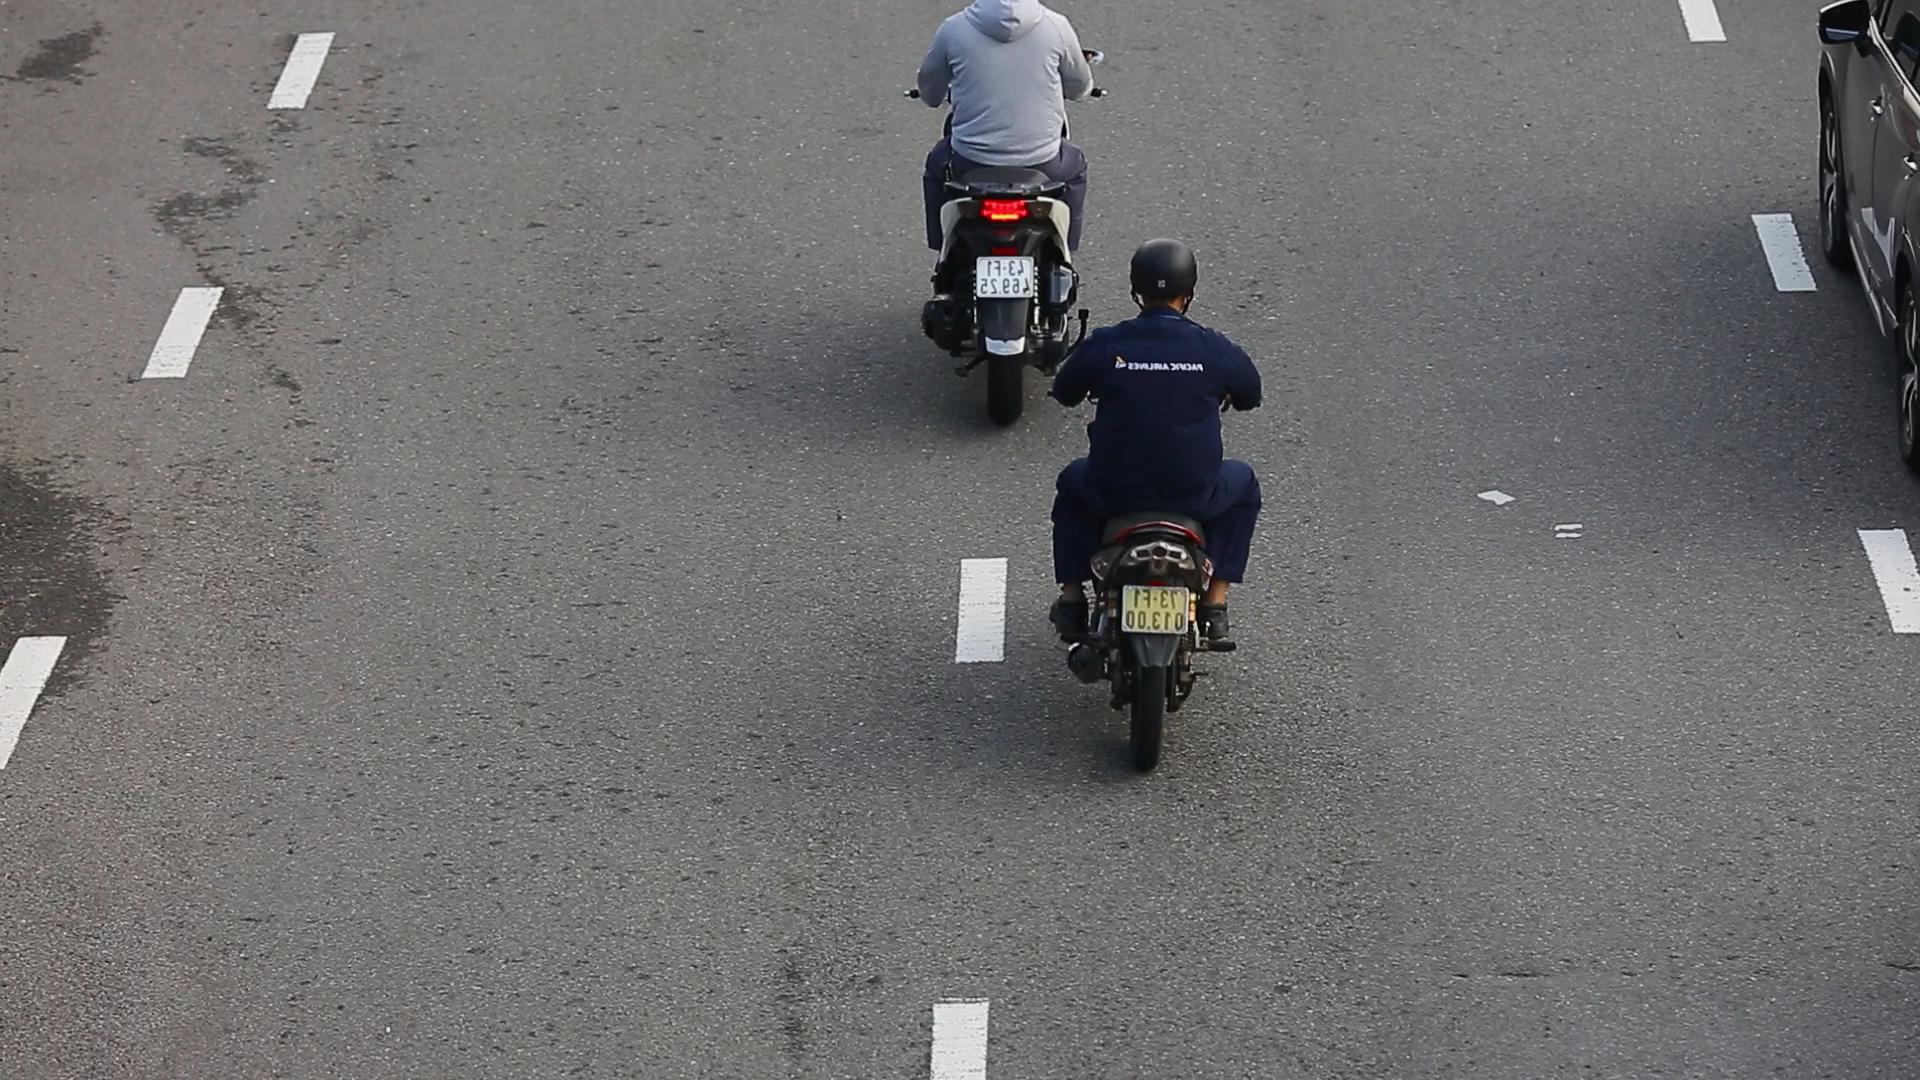motobike: (1026, 240, 1265, 790)
